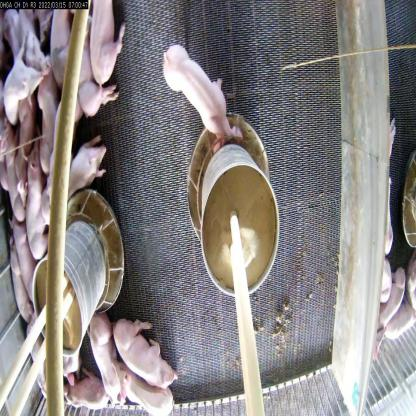Pig: (160, 33, 240, 165), (58, 18, 116, 127), (47, 111, 110, 196), (109, 317, 177, 388), (78, 1, 126, 101), (9, 205, 49, 324), (82, 298, 122, 408), (47, 1, 86, 101), (0, 42, 48, 121), (115, 360, 177, 415), (61, 352, 112, 415), (38, 60, 65, 174), (29, 161, 58, 259)
